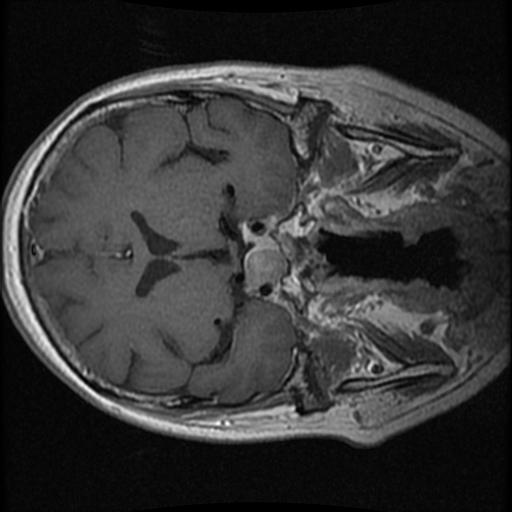pituitary tumour: (241, 236, 286, 295)
